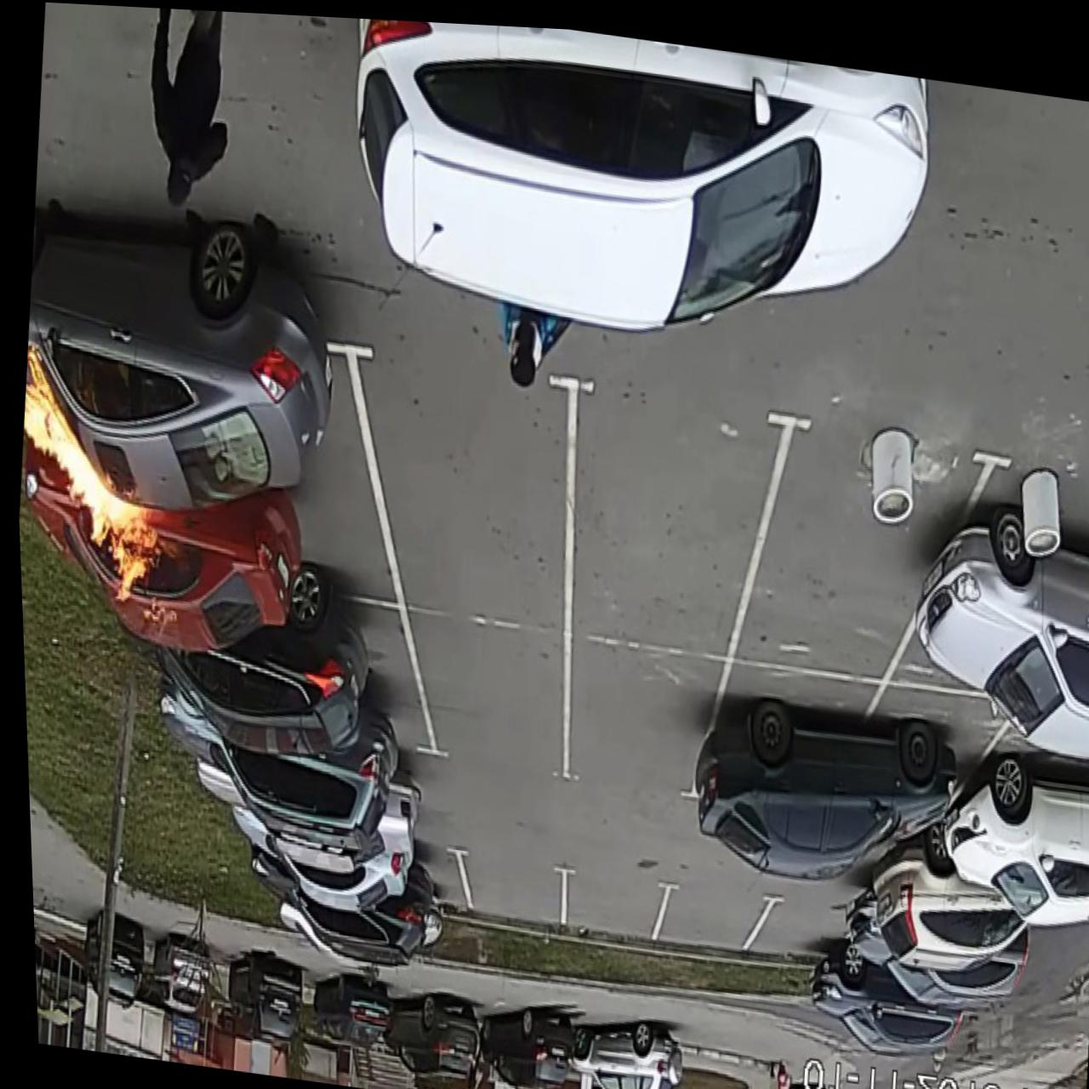cars: (743, 389, 971, 721), (176, 333, 386, 620), (929, 417, 1089, 726), (706, 662, 864, 849), (248, 598, 424, 765), (850, 705, 982, 878), (351, 821, 462, 934), (756, 893, 860, 992)
empty: (354, 330, 581, 639), (560, 384, 756, 663), (555, 621, 713, 816), (413, 615, 575, 782), (557, 855, 666, 959), (454, 837, 568, 931), (651, 871, 765, 965)
